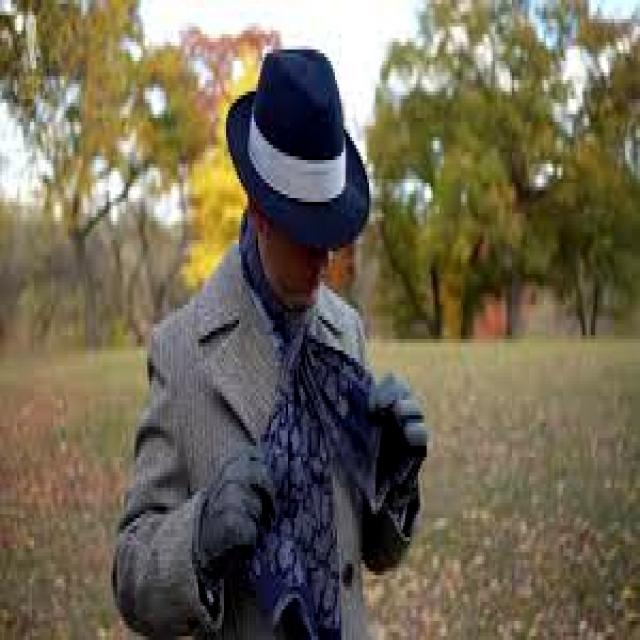hat: (227, 50, 369, 247)
